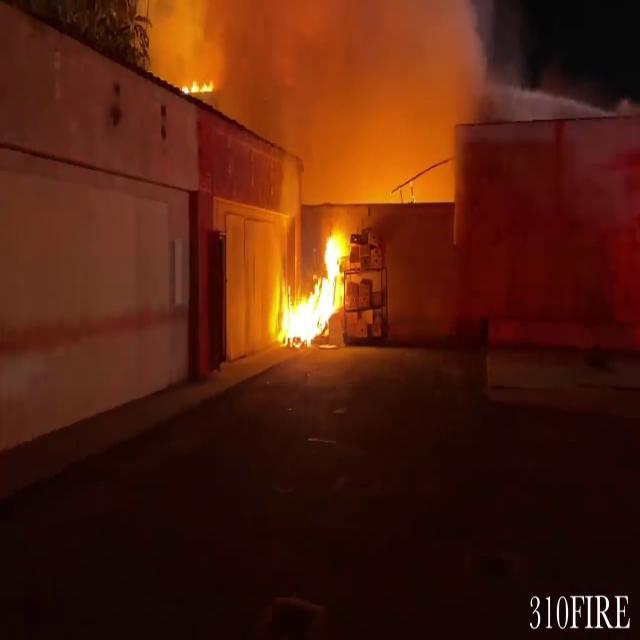Fire: (271, 218, 357, 350)
